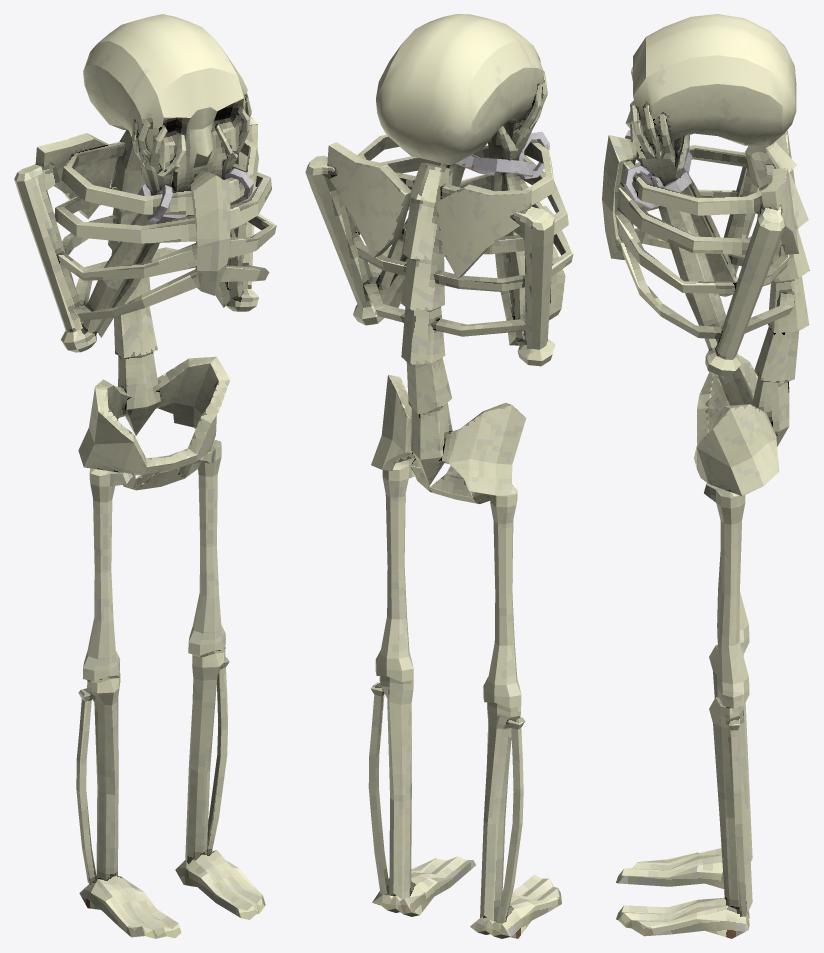
File: BarrelKin_MAT.fbx
3 views of the same model, side by side, from view 1: azimuth 30°, elevation 25°; view 2: azimuth 150°, elevation 25°; view 3: azimuth 270°, elevation 25° (orthographic). The views are drawn at different scales.
Visible parts, largest first — view 1: Sternum, Head, Cube.002, TibiaR, TibiaL, Humerus, FemurR, FemurL, LowerBack, FeetR, Forearm, FeetL (+4 smaller); view 2: Head, ShoulderBlade, Sternum, Cube.002, Humerus, TibiaL, TibiaR, Vertebrae, FemurL, FemurR, LowerBack, Forearm (+4 smaller); view 3: Head, Sternum, Cube.002, TibiaL, Humerus, FemurL, Forearm, Vertebrae, FeetL, LowerBack, FeetR, Hands (+4 smaller).
Part boxes in pixels (x1=…): Sternum: x1=54, y1=139, x2=276, y2=320; Head: x1=83, y1=14, x2=247, y2=191; Cube.002: x1=78, y1=356, x2=230, y2=490; TibiaR: x1=76, y1=673, x2=120, y2=884; TibiaL: x1=185, y1=647, x2=229, y2=862; Humerus: x1=14, y1=117, x2=258, y2=352; FemurR: x1=83, y1=468, x2=133, y2=681; FemurL: x1=188, y1=439, x2=225, y2=655; LowerBack: x1=114, y1=306, x2=160, y2=435; FeetR: x1=79, y1=875, x2=181, y2=938; Forearm: x1=83, y1=213, x2=244, y2=337; FeetL: x1=175, y1=850, x2=265, y2=919; Head: x1=376, y1=14, x2=543, y2=164; ShoulderBlade: x1=327, y1=142, x2=531, y2=278; Sternum: x1=351, y1=123, x2=573, y2=336; Cube.002: x1=371, y1=374, x2=526, y2=503; Humerus: x1=305, y1=155, x2=555, y2=366; TibiaL: x1=368, y1=676, x2=413, y2=899; TibiaR: x1=480, y1=702, x2=525, y2=923; Vertebrae: x1=401, y1=163, x2=452, y2=364; FemurL: x1=375, y1=457, x2=415, y2=681; FemurR: x1=483, y1=484, x2=521, y2=708; LowerBack: x1=406, y1=357, x2=452, y2=485; Forearm: x1=371, y1=163, x2=525, y2=345; Head: x1=625, y1=14, x2=796, y2=167; Sternum: x1=602, y1=133, x2=794, y2=338; Cube.002: x1=694, y1=353, x2=779, y2=496; TibiaL: x1=709, y1=696, x2=752, y2=916; Humerus: x1=705, y1=146, x2=784, y2=376; FemurL: x1=704, y1=483, x2=749, y2=708; Forearm: x1=653, y1=151, x2=735, y2=350; Vertebrae: x1=745, y1=141, x2=809, y2=332; FeetL: x1=616, y1=898, x2=749, y2=938; LowerBack: x1=752, y1=326, x2=798, y2=446; FeetR: x1=616, y1=848, x2=723, y2=888; Hands: x1=630, y1=67, x2=689, y2=185.
Bounding box in the file's own units: 0.5426 × 0.403 × 1.9.
